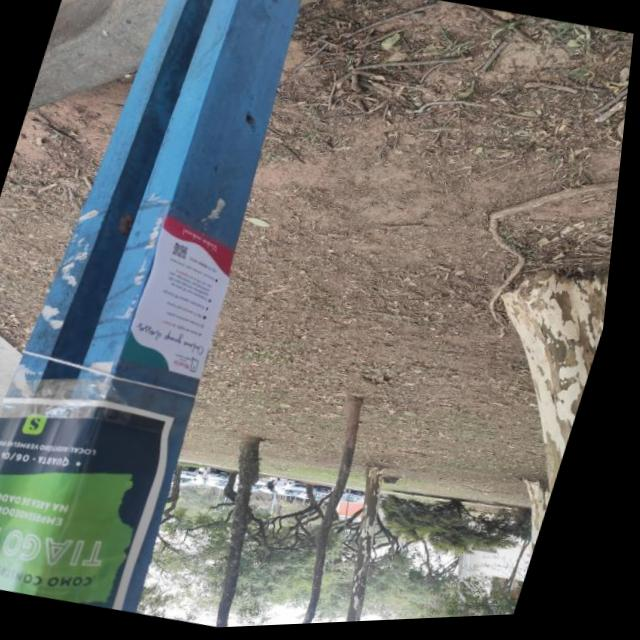qrcode: (176, 243, 195, 262)
